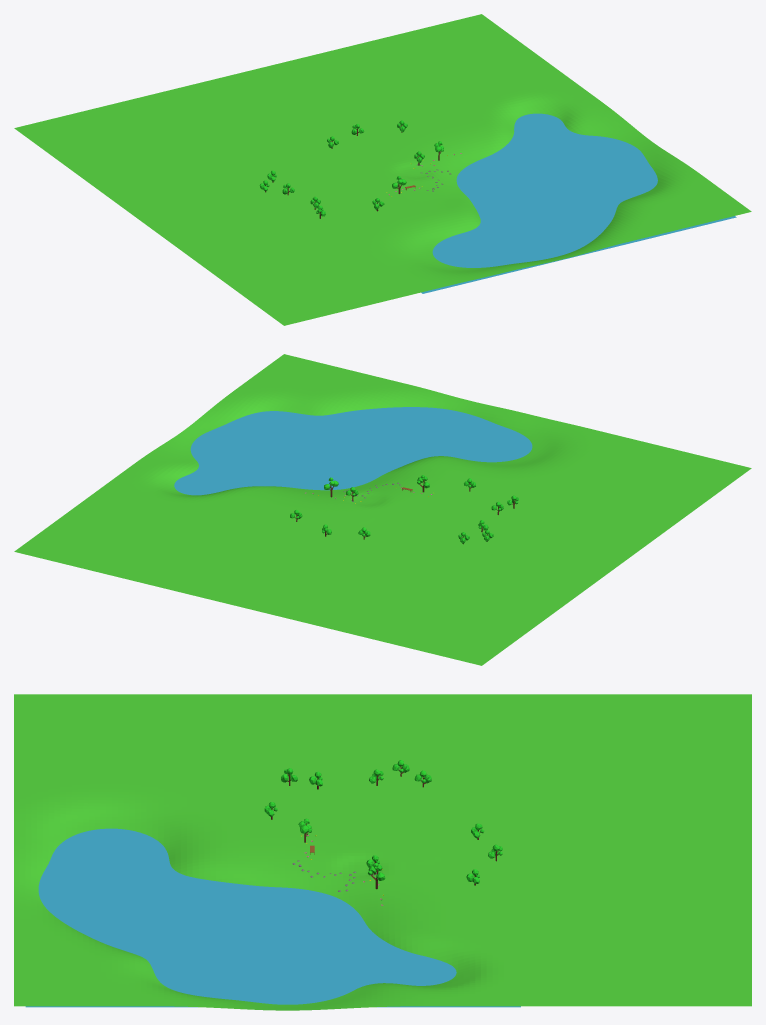
File: Jardim.fbx
The picture shows the model from 3 angles, top to bottom: view 1: azimuth 30°, elevation 25°; view 2: azimuth 150°, elevation 25°; view 3: azimuth 270°, elevation 25°; orthographic projection. The views are drawn at different scales.
Parts seen in each view (by area): view 1: Plane, Plane.001; view 2: Plane, Plane.001; view 3: Plane, Plane.001.
Boxes of the visible parts, <box> form: Plane: <box>14,14,751,325</box>; Plane.001: <box>421,113,736,293</box>; Plane: <box>14,354,751,665</box>; Plane.001: <box>174,407,532,495</box>; Plane: <box>14,694,751,1010</box>; Plane.001: <box>25,828,520,1007</box>.
Size of the model in its own units: 5272 by 585 by 5271.
